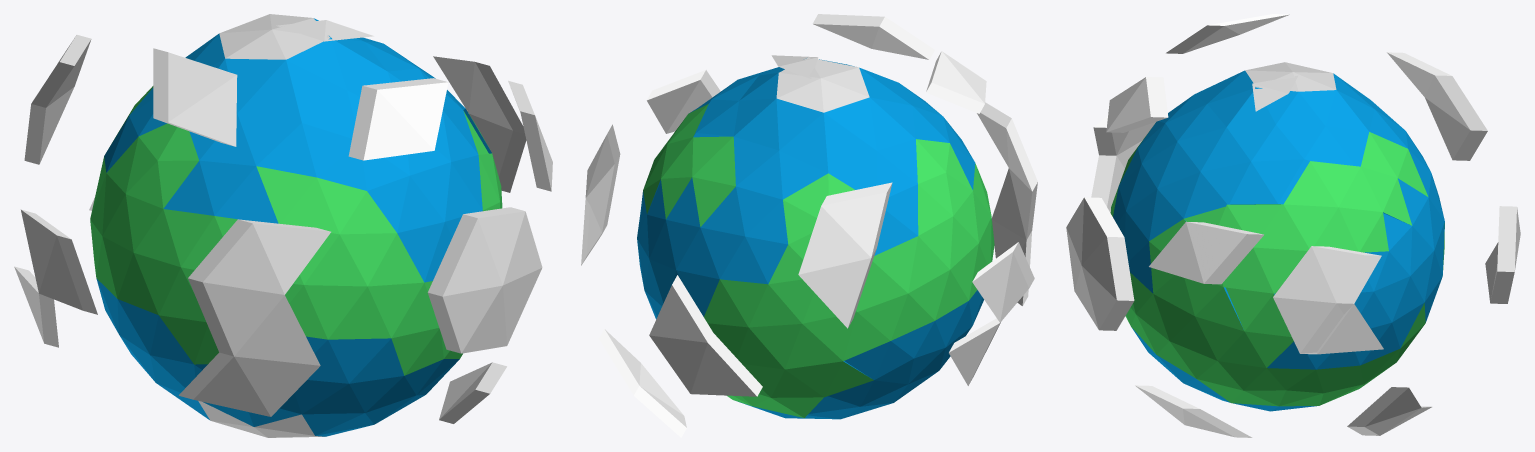
The picture shows the model from 3 angles, left to right: view 1: azimuth 30°, elevation 25°; view 2: azimuth 150°, elevation 25°; view 3: azimuth 270°, elevation 25°; orthographic projection. The views are drawn at different scales.
Parts seen in each view (by area): view 1: Surface, Clouds; view 2: Surface, Clouds; view 3: Surface, Clouds.
Part boxes in pixels (<box>): Surface: <box>90,14,502,437</box>; Clouds: <box>14,20,552,423</box>; Surface: <box>637,57,994,419</box>; Clouds: <box>581,14,1037,437</box>; Surface: <box>1110,62,1444,411</box>; Clouds: <box>1066,14,1520,437</box>.
Size of the model in its own units: 516 by 430 by 534.
